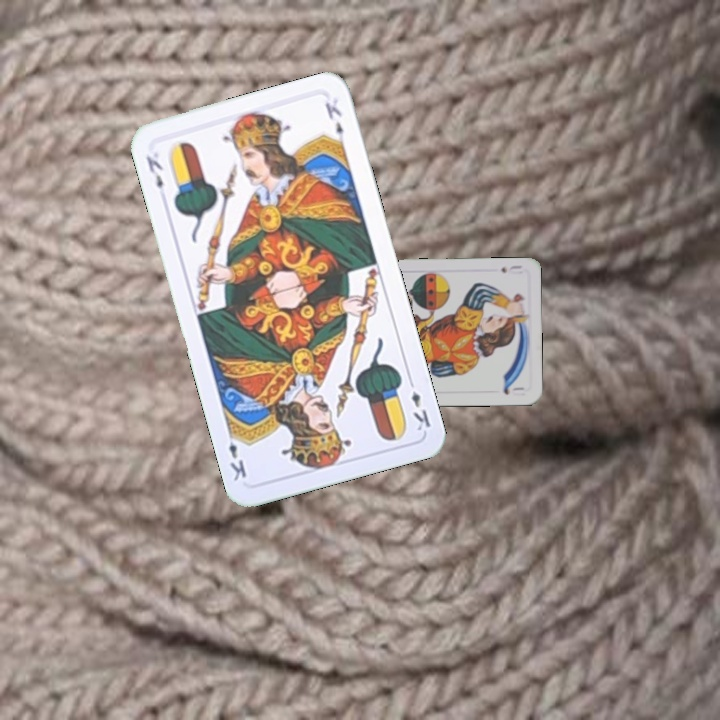EK: (404, 374, 434, 434), (142, 152, 166, 192)
SU: (497, 261, 525, 276)
